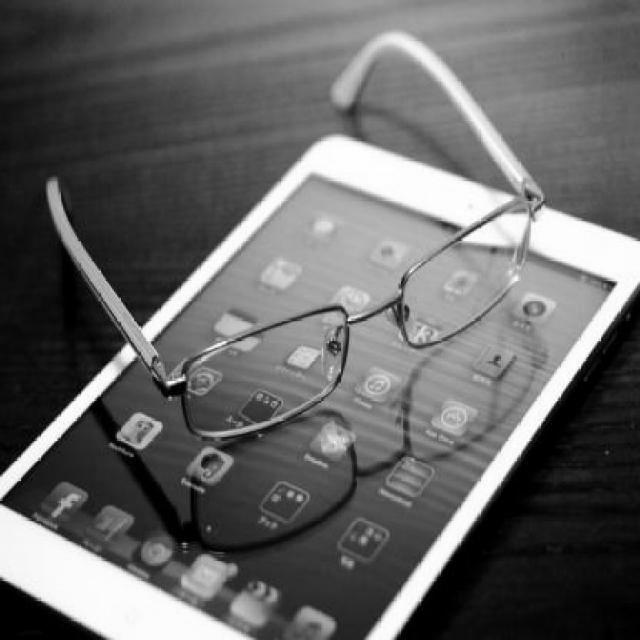fake: (0, 97, 617, 634)
